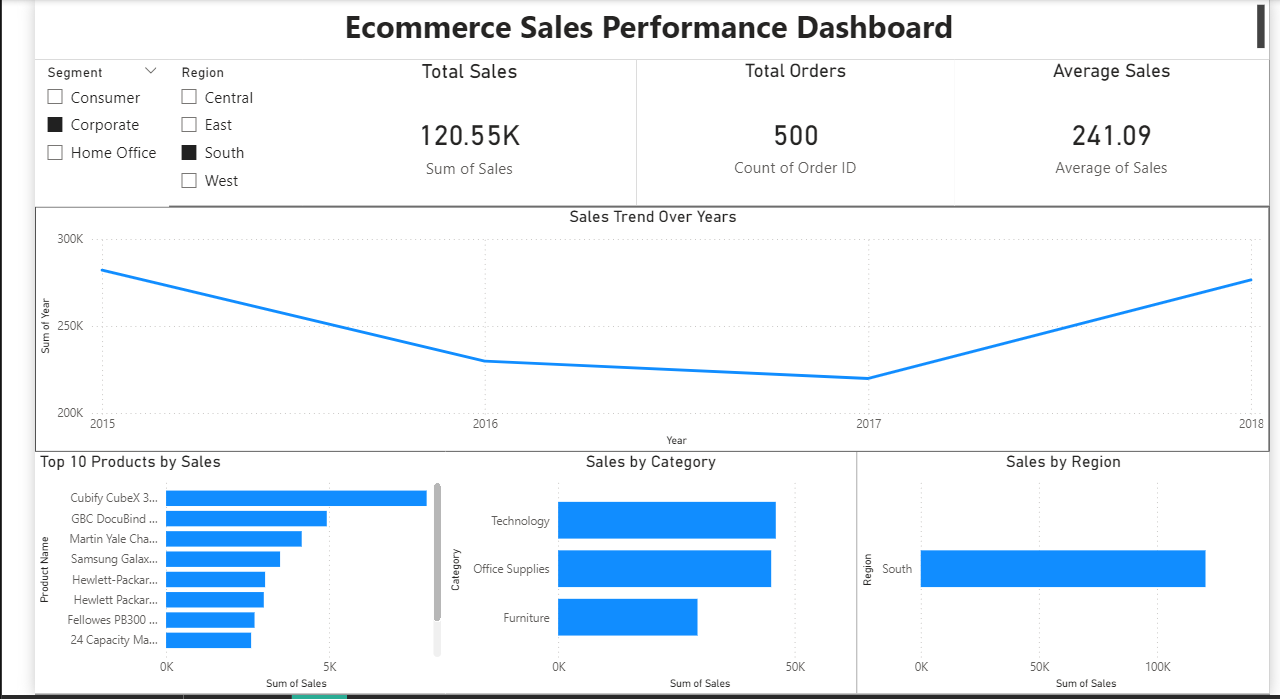

What the dashboard file says about the page in this screenshot:
{"tool":"powerbi","page":{"name":"Page 1","canvas":[1280,720],"ordinal":0},"visuals":[{"type":"card","title":"Total Sales","fields":{"Values":["Sum(cleaned_sales_data.Sales)"]},"box":[278.2,61.8,345.2,151.1],"z":0},{"type":"lineChart","title":"Sales Trend Over Years","fields":{"Category":["cleaned_sales_data.Order Date.Variation.Date Hierarchy.Year"],"Y":["Sum(cleaned_sales_data.Year)"]},"box":[0,214.7,1279.6,254.2],"z":1000},{"type":"clusteredBarChart","title":"Sales by Category","fields":{"Category":["cleaned_sales_data.Category"],"Y":["Sum(cleaned_sales_data.Sales)"]},"box":[426,468.9,426,250.8],"z":2000},{"type":"clusteredBarChart","title":"Sales by Region","fields":{"Category":["cleaned_sales_data.Region"],"Y":["Sum(cleaned_sales_data.Sales)"]},"box":[851.9,468.9,427.7,250.8],"z":3000},{"type":"clusteredBarChart","title":"Top 10 Products by Sales","fields":{"Category":["cleaned_sales_data.Product Name"],"Y":["Sum(cleaned_sales_data.Sales)"]},"box":[0,468.9,426,250.8],"z":4000},{"type":"slicer","fields":{"Values":["cleaned_sales_data.Region"]},"box":[139.1,61.8,139.1,151.1],"z":5000},{"type":"slicer","fields":{"Values":["cleaned_sales_data.Segment"]},"box":[0,62,138.8,152.1],"z":6000},{"type":"textbox","box":[0,0,1279.6,61.8],"z":7000},{"type":"card","title":"Total Orders","fields":{"Values":["CountNonNull(cleaned_sales_data.Order ID)"]},"box":[623.5,61.8,329.8,151.1],"z":8000},{"type":"card","title":"Average Sales","fields":{"Values":["Avg(cleaned_sales_data.Sales)"]},"box":[953.2,61.8,326.3,151.1],"z":9000}]}

Visuals, with their boxes in screenshot pixels (x1, y1, x2, y2):
"Total Sales" card: (left=267, top=59, right=598, bottom=204)
"Sales Trend Over Years" lineChart: (left=0, top=206, right=1227, bottom=450)
"Sales by Category" clusteredBarChart: (left=408, top=450, right=817, bottom=690)
"Sales by Region" clusteredBarChart: (left=817, top=450, right=1227, bottom=690)
"Top 10 Products by Sales" clusteredBarChart: (left=0, top=450, right=408, bottom=690)
slicer - cleaned_sales_data.Region: (left=133, top=59, right=267, bottom=204)
slicer - cleaned_sales_data.Segment: (left=0, top=59, right=133, bottom=205)
textbox: (left=0, top=0, right=1227, bottom=59)
"Total Orders" card: (left=598, top=59, right=914, bottom=204)
"Average Sales" card: (left=914, top=59, right=1227, bottom=204)
